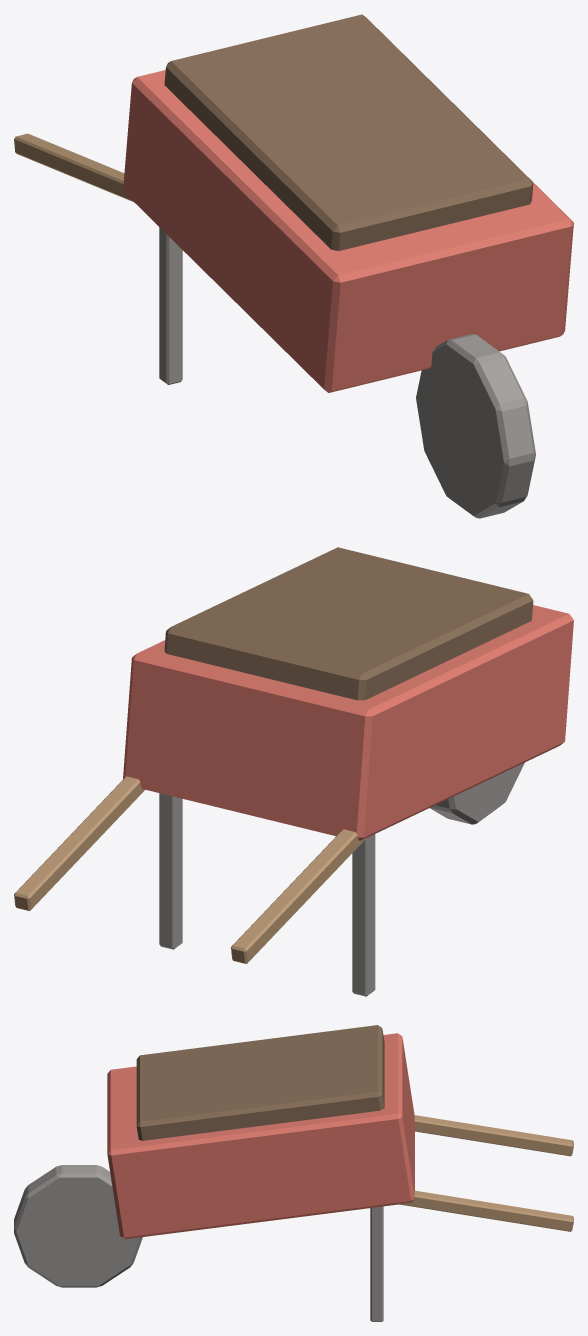
The picture shows the model from 3 angles, top to bottom: view 1: azimuth 30°, elevation 25°; view 2: azimuth 150°, elevation 25°; view 3: azimuth 270°, elevation 25°; orthographic projection. The views are drawn at different scales.
Visible parts, largest first — view 1: Wheelbarrow; view 2: Wheelbarrow; view 3: Wheelbarrow.
Boxes of the visible parts, left/top/right/bottom form: Wheelbarrow: left=14, top=14, right=573, bottom=518; Wheelbarrow: left=14, top=547, right=573, bottom=996; Wheelbarrow: left=14, top=1025, right=573, bottom=1321.
Size of the model in its own units: 0.6 by 0.76 by 1.69.
